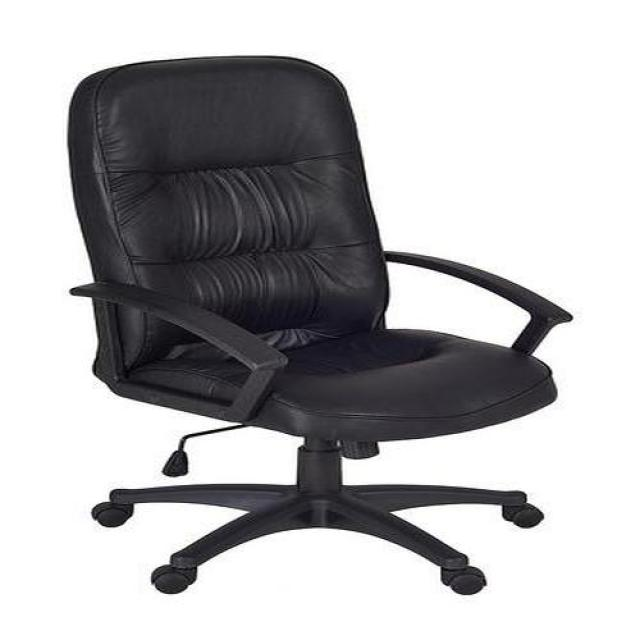swivelchair: (69, 55, 572, 599)
